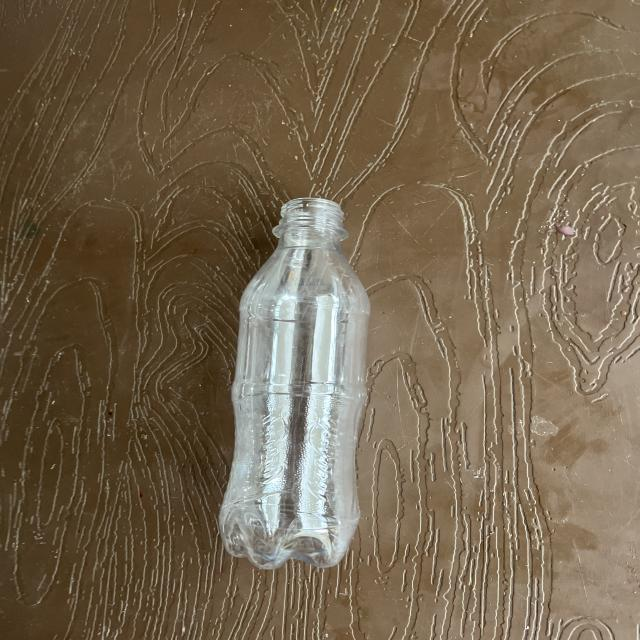PET_ClearBottle: (205, 200, 492, 570)
